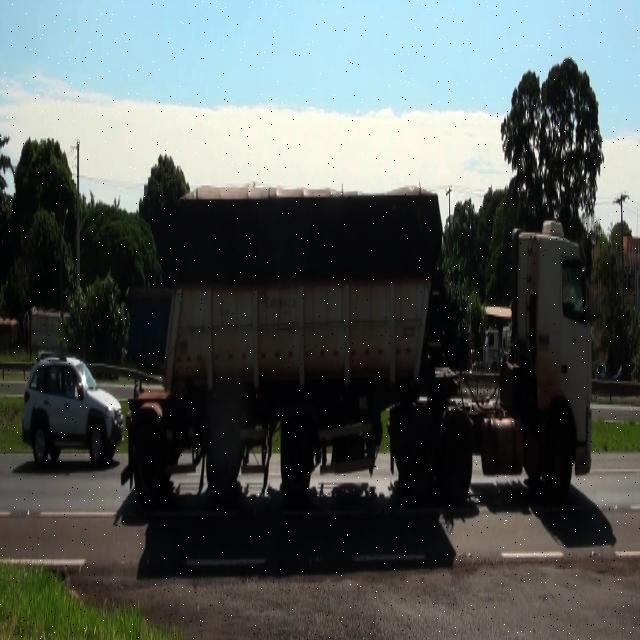-axle: (132, 424, 168, 524), (439, 410, 473, 506), (403, 412, 436, 503), (206, 416, 241, 501), (280, 419, 314, 506), (547, 411, 577, 503)
